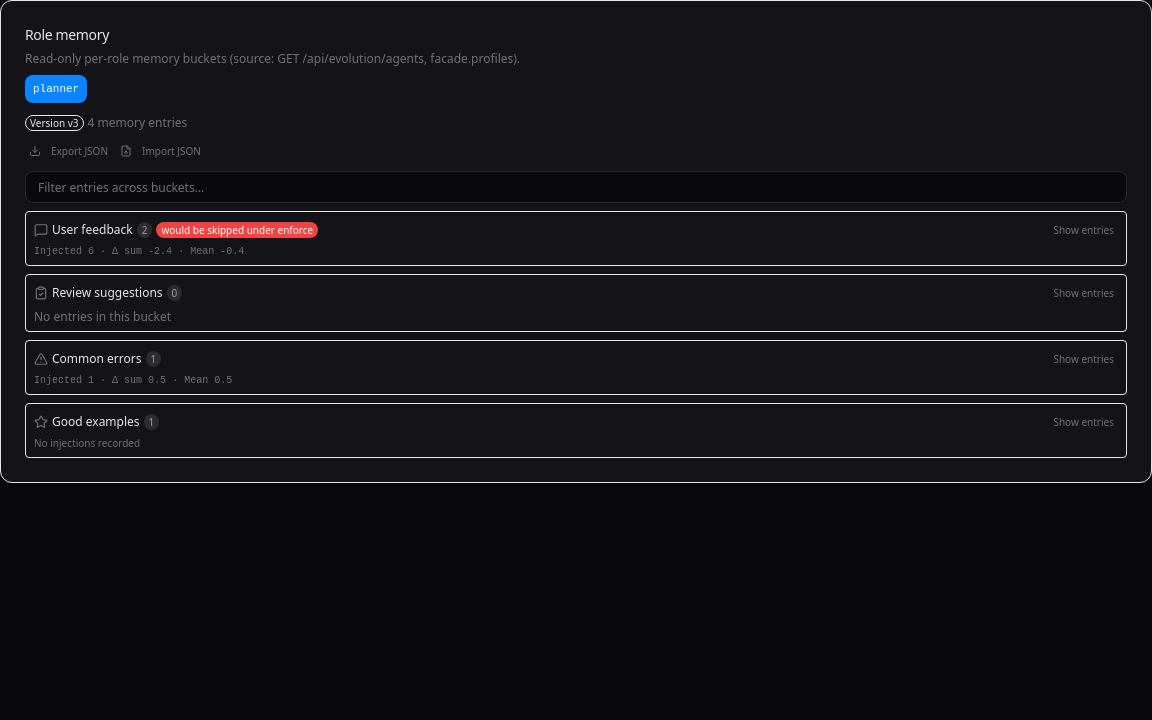
memory viewer render smoke › expands a bucket to the full entry list with mime and time
Click the button with test id "memory-bucket-userFeedback-toggle" at [1084, 230], box [1049, 218, 1118, 242]
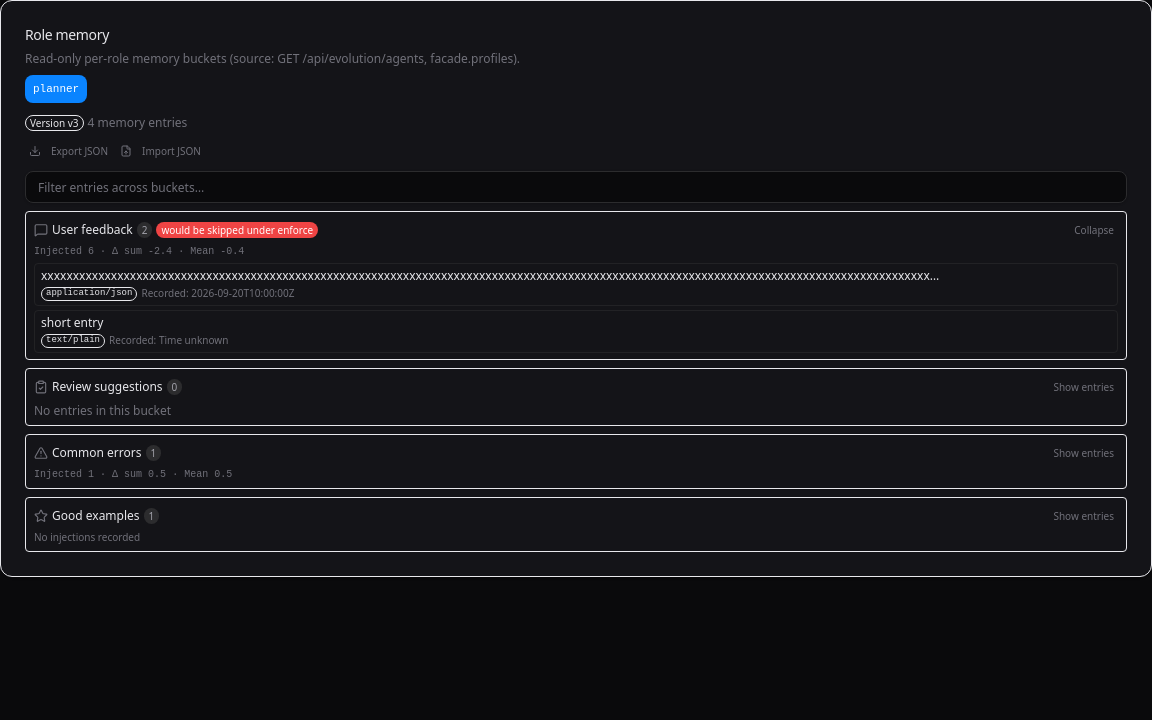
Result: the list with test id "memory-bucket-userFeedback-entries" shows "application/json" at [41, 268, 1111, 301]
Result: the list with test id "memory-bucket-userFeedback-entries" shows "2026-09-20T10:00:00Z" at [41, 268, 1111, 301]
Result: the list with test id "memory-bucket-userFeedback-entries" shows "Time unknown" at [41, 315, 1111, 348]
Click the button with test id "memory-bucket-userFeedback-toggle" at [1094, 230], box [1070, 218, 1118, 242]
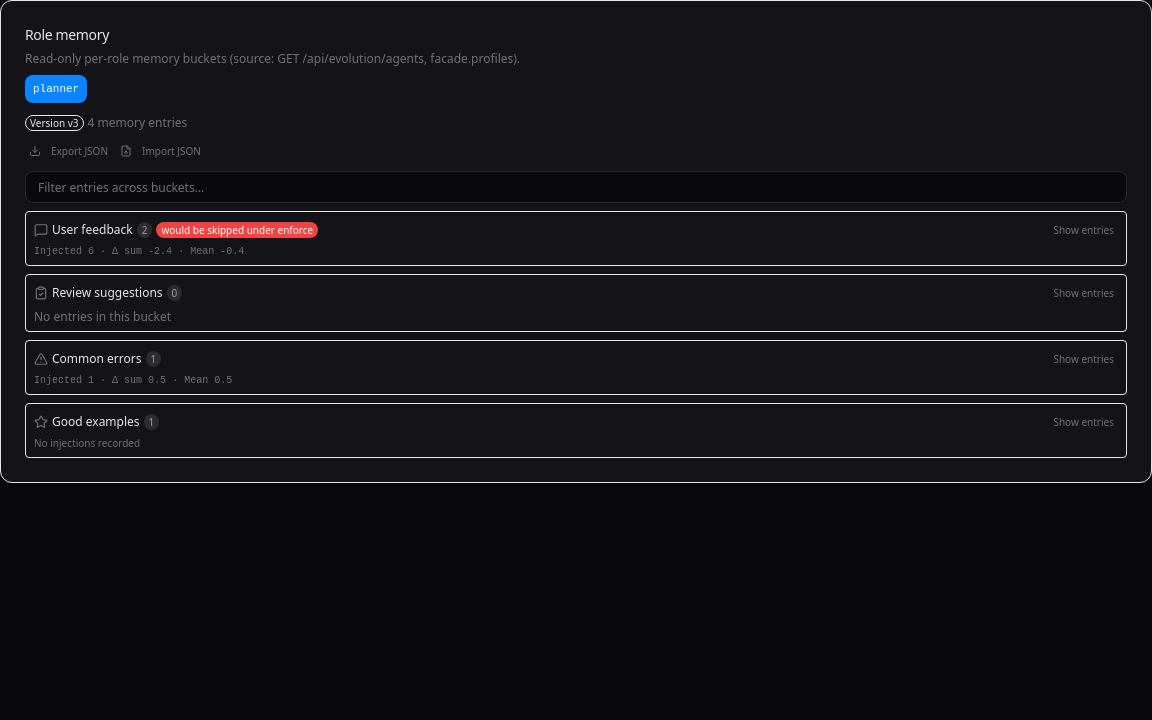
Result: the list with test id "memory-bucket-userFeedback-entries" is gone
